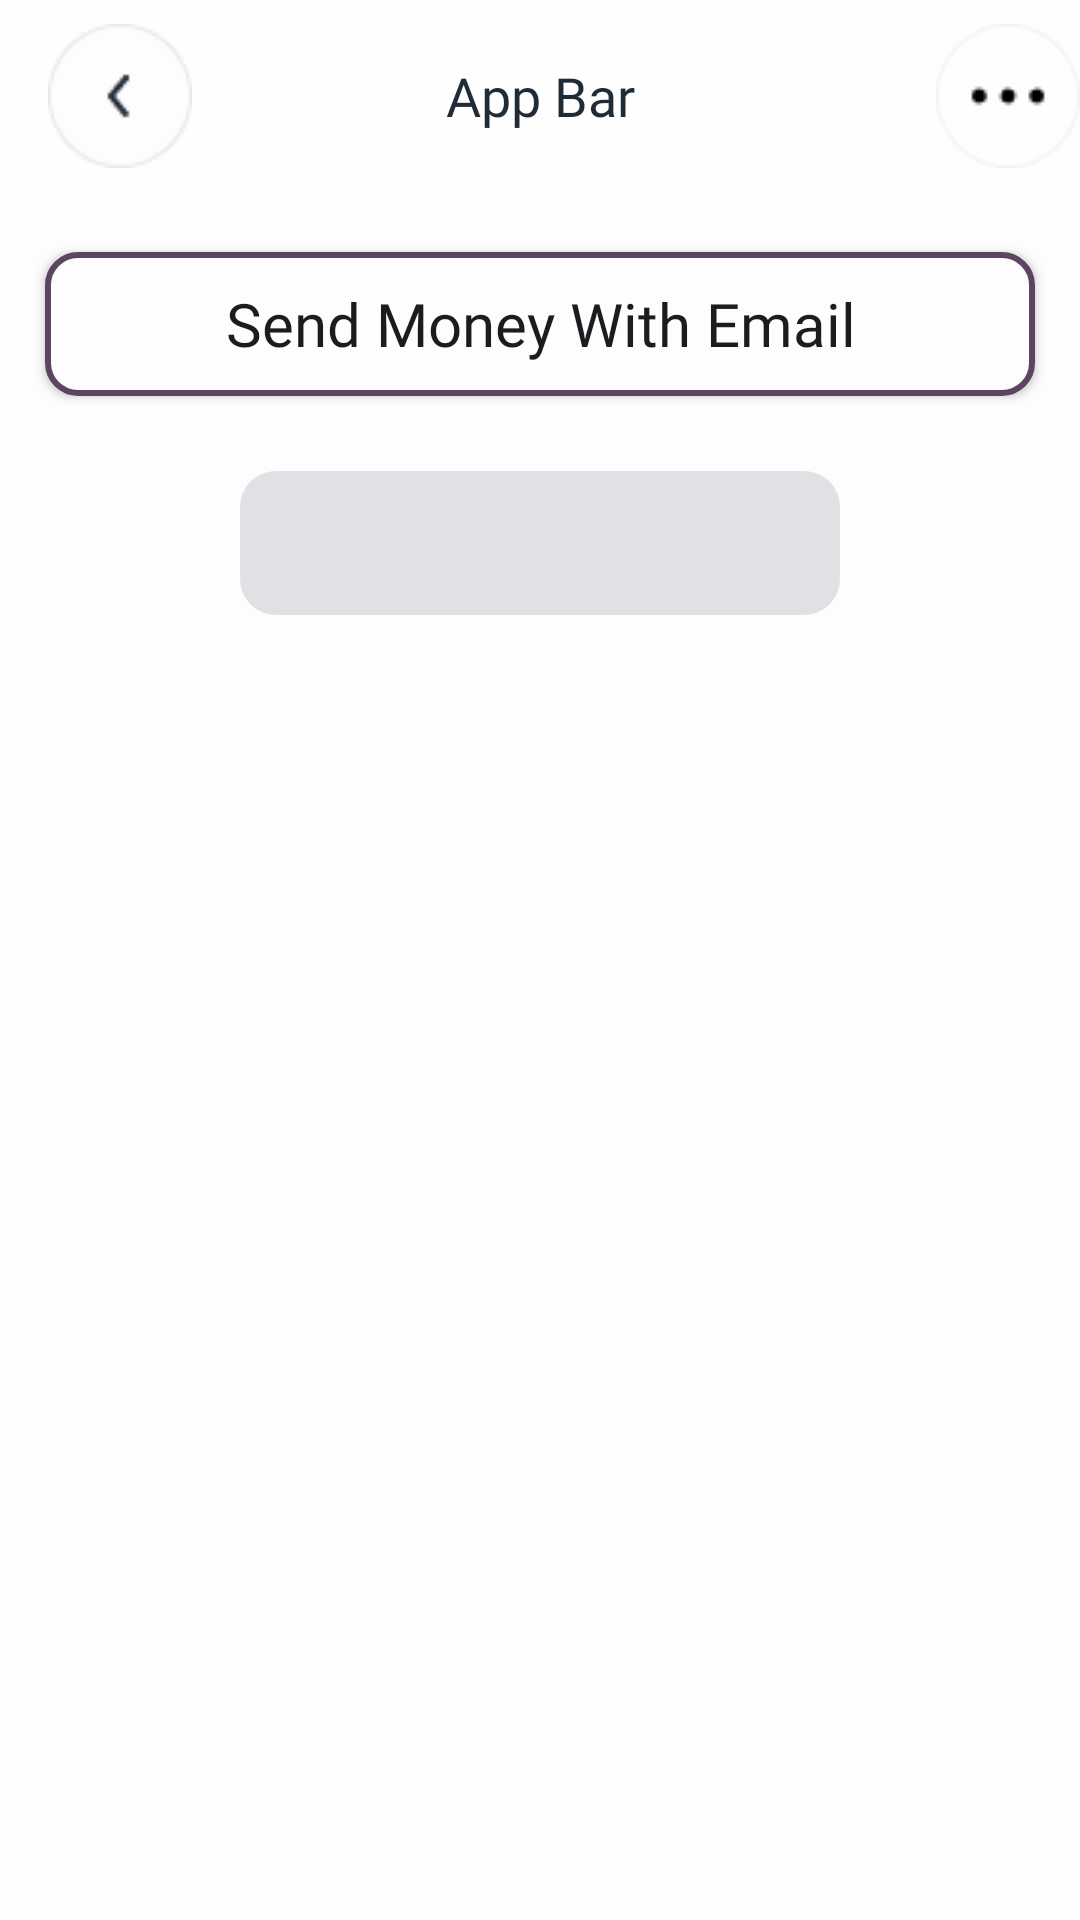

Locate icon controls on the screen. Image size 1080*1920, boxes as (x1, y1, x2, y2).
arrow back: (48, 24, 192, 168)
three dot: (971, 86, 1045, 106)
